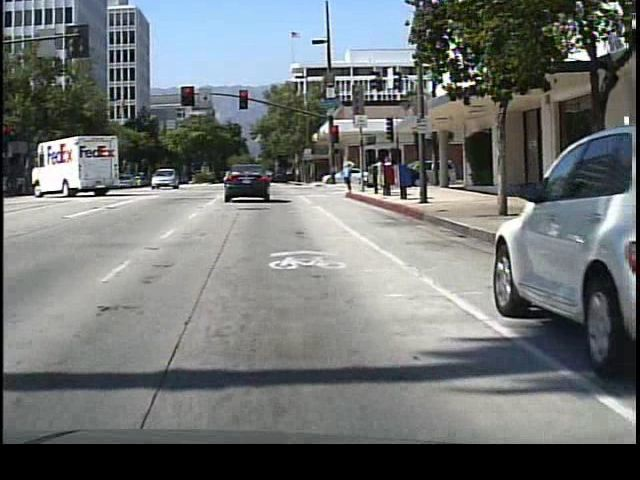person: (340, 151, 362, 198)
